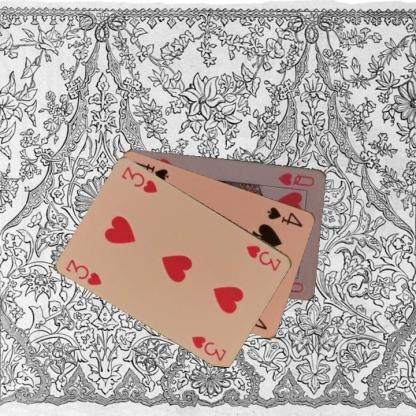3h: (63, 256, 103, 287), (244, 242, 284, 272)
4s: (264, 204, 304, 228)
Qh: (276, 170, 316, 188)
